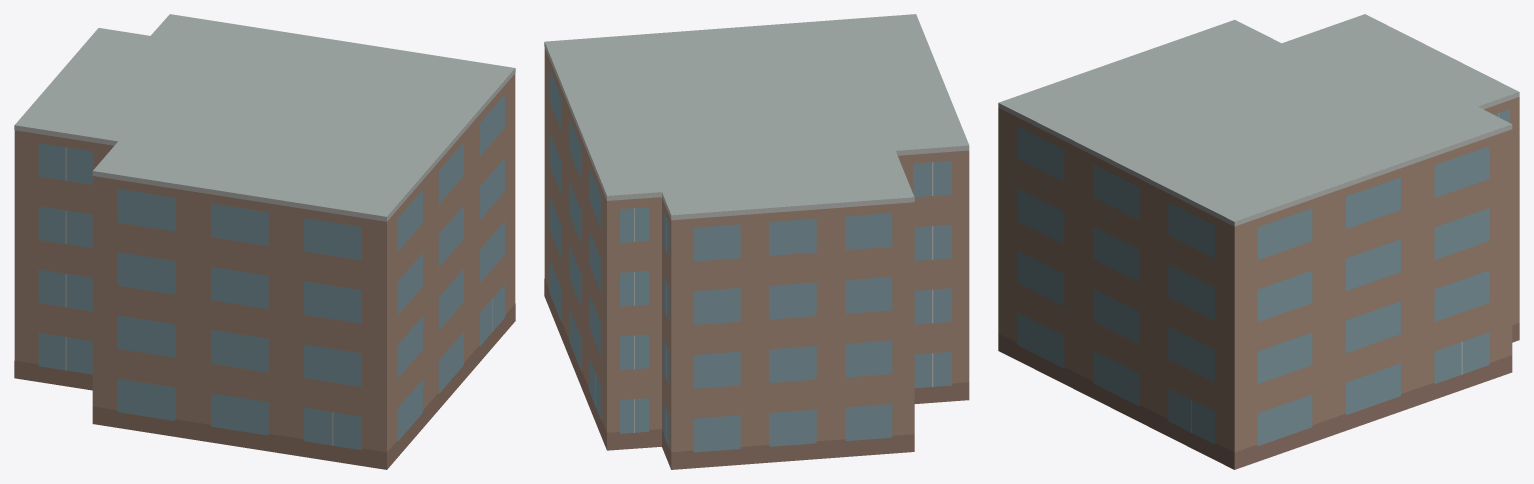
The model's file is survey-upis-32972207.glb.
3 views of the same model, side by side, from view 1: azimuth 30°, elevation 25°; view 2: azimuth 150°, elevation 25°; view 3: azimuth 270°, elevation 25° (orthographic). The views are drawn at different scales.
Parts seen in each view (by area): view 1: survey-upis-32972207.tmp; view 2: survey-upis-32972207.tmp; view 3: survey-upis-32972207.tmp.
Part boxes in pixels (box(x1,y1,x2,y2)): survey-upis-32972207.tmp: box(14, 14, 515, 469); survey-upis-32972207.tmp: box(544, 14, 969, 469); survey-upis-32972207.tmp: box(998, 14, 1519, 469).
Bounding box in the file's own units: 22.47 × 12.5 × 23.81.
